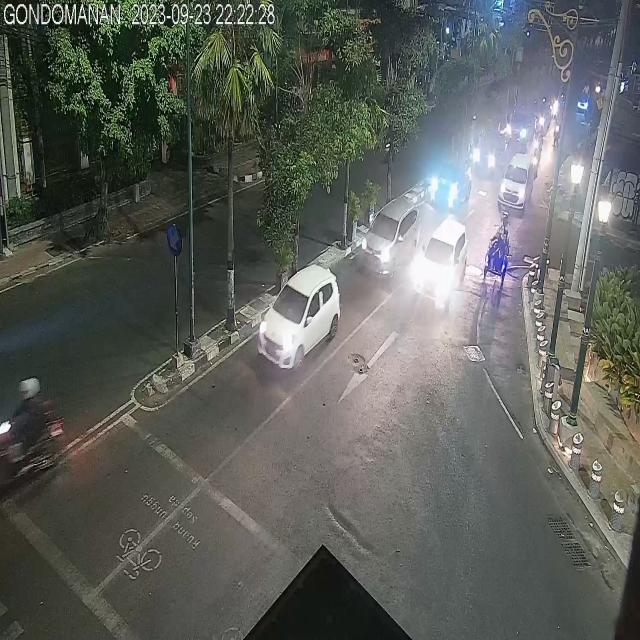car: (257, 268, 340, 369), (412, 217, 467, 309), (361, 195, 420, 276), (498, 153, 533, 209), (430, 160, 470, 209), (468, 128, 506, 179), (508, 107, 533, 145)
motorcycle: (0, 379, 62, 492), (532, 147, 540, 179)
